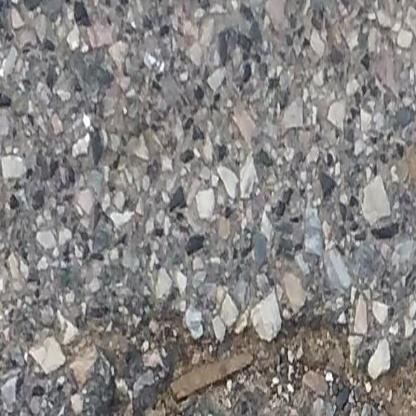Cracks: (100, 324, 416, 416)
